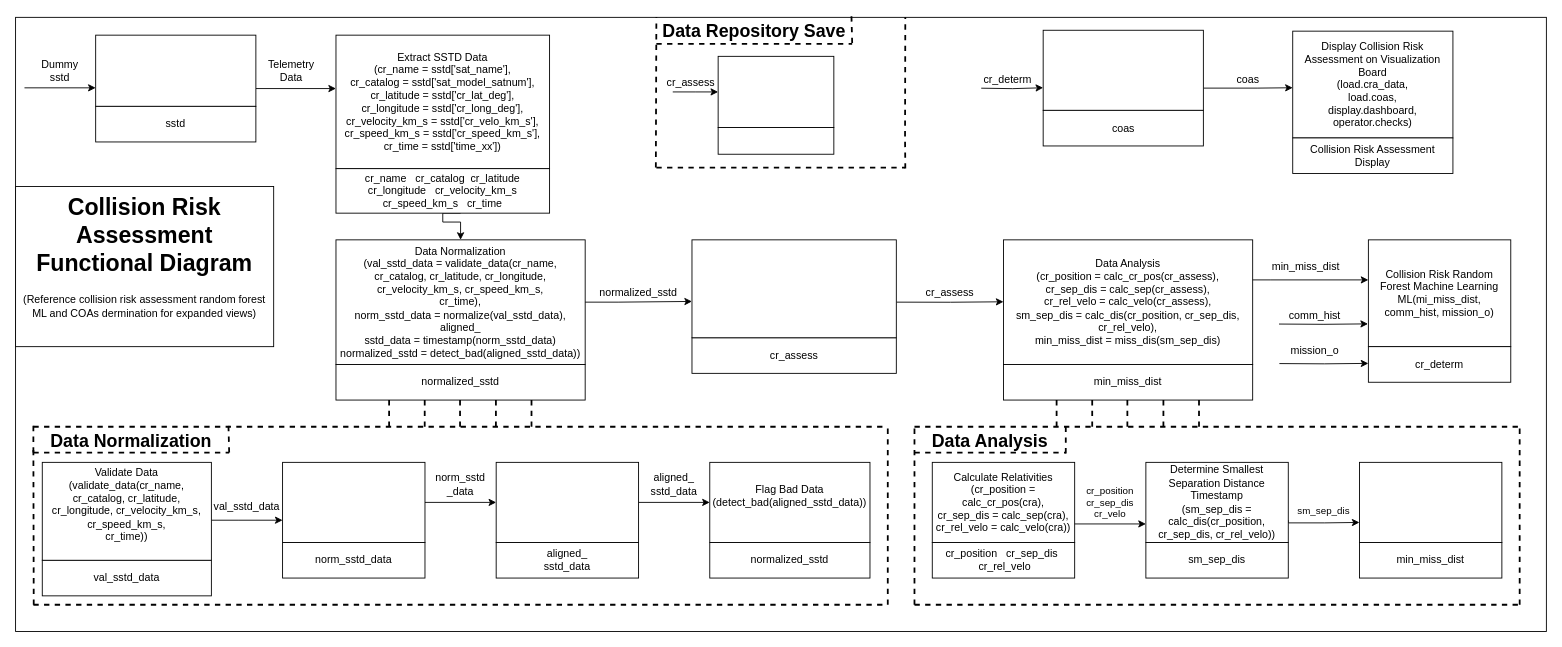
Image size: 1562x647. Some labels were removed from this diagram. Each missing label, with the centre of its shape:
"Align by Timestamp ( timestamp( norm_sstd_data ) )" goes at (x=567, y=501).
"COAs Determination COAs(cr_determ)" goes at (x=1122, y=69).
"cra_data.json" goes at (x=775, y=140).
"Determine Minimum Miss Distance (min_miss_dist = miss_dis(sm_sep_dis))" goes at (x=1430, y=501).
"Generate Collision Risk Assessment (cr_assess = generate_cr(normalized_sstd))" goes at (x=793, y=288).
"Normalize into Usable Format (normalize( val_sstd_data ))" goes at (x=353, y=501).
"Request SSTD Data import dummy_gen as dg { dummy_sstd = dg.sstd(xxx) }" goes at (x=175, y=70).
"Save to Data Repository (json.dump(cr_assess )" goes at (x=775, y=91).
